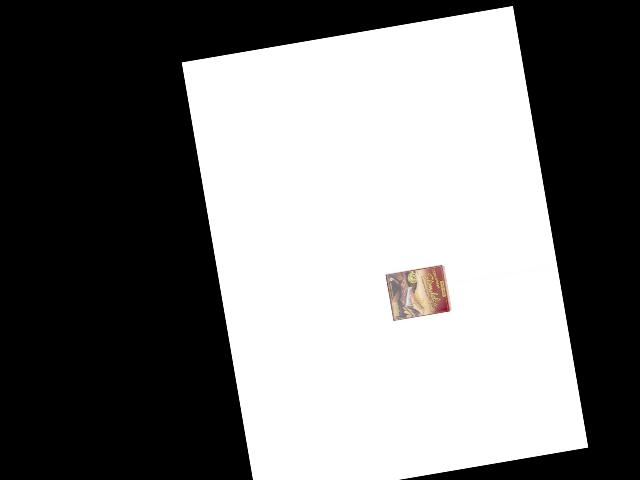chocolate: (385, 264, 452, 320)
